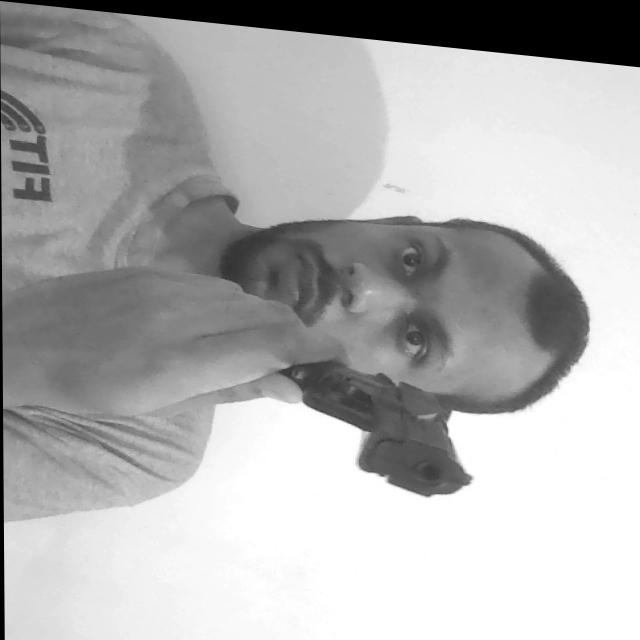handgun: (273, 346, 476, 493)
